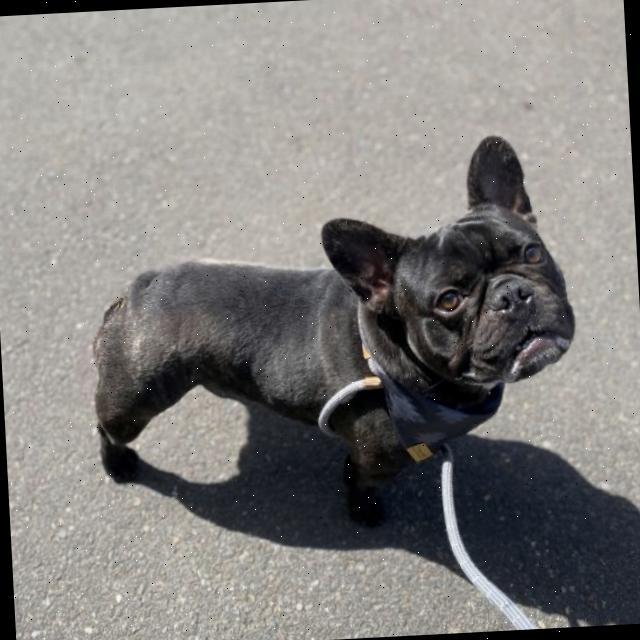french_bulldog_dog: (308, 124, 590, 413)
